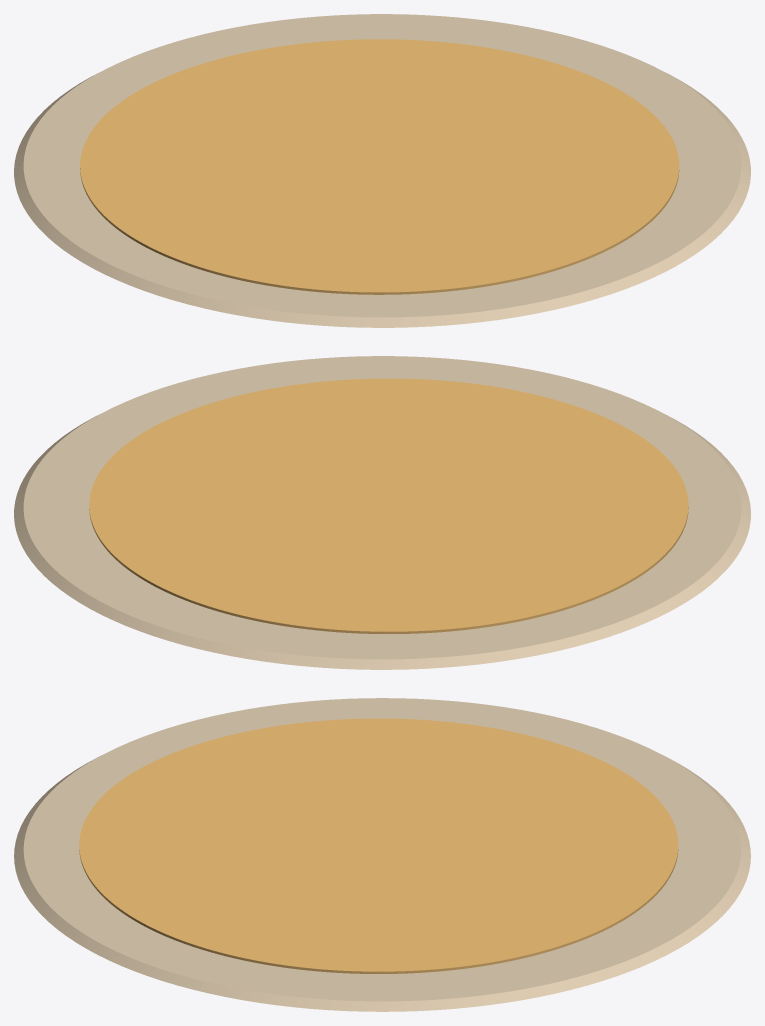
The picture shows the model from 3 angles, top to bottom: view 1: azimuth 30°, elevation 25°; view 2: azimuth 150°, elevation 25°; view 3: azimuth 270°, elevation 25°; orthographic projection.
Visible parts, largest first — view 1: Circle.005, Circle.022; view 2: Circle.005, Circle.022; view 3: Circle.005, Circle.022.
Boxes of the visible parts, x1=… form: Circle.005: x1=80, y1=39, x2=679, y2=294; Circle.022: x1=14, y1=14, x2=750, y2=327; Circle.005: x1=89, y1=378, x2=688, y2=633; Circle.022: x1=14, y1=356, x2=750, y2=669; Circle.005: x1=79, y1=718, x2=678, y2=973; Circle.022: x1=14, y1=698, x2=750, y2=1011.
Bounding box in the file's own units: 493 × 493 × 6.5.
